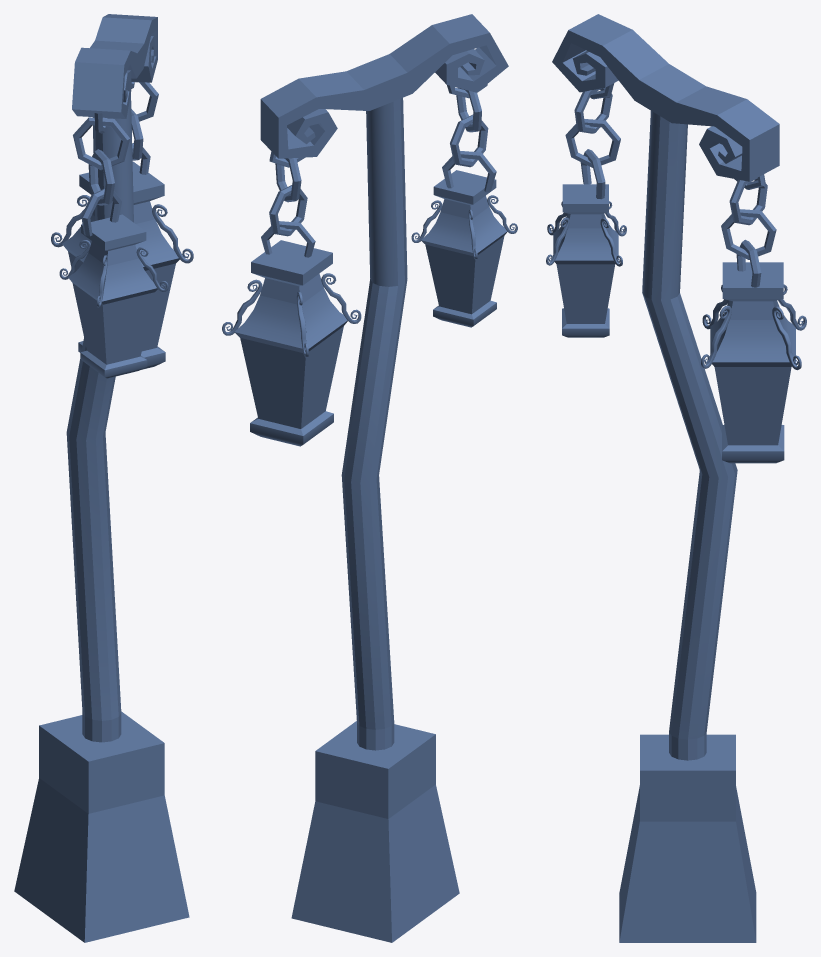
Rendered from Lamp_II.fbx.
3 views of the same model, side by side, from view 1: azimuth 30°, elevation 25°; view 2: azimuth 150°, elevation 25°; view 3: azimuth 270°, elevation 25° (orthographic). The views are drawn at different scales.
Parts seen in each view (by area): view 1: Lamp_II; view 2: Lamp_II; view 3: Lamp_II.
Part boxes in pixels (bbox=[...]): Lamp_II: bbox=[14, 14, 193, 942]; Lamp_II: bbox=[222, 14, 517, 942]; Lamp_II: bbox=[546, 14, 806, 942].
Size of the model in its own units: 13.28 by 60.73 by 16.52.
